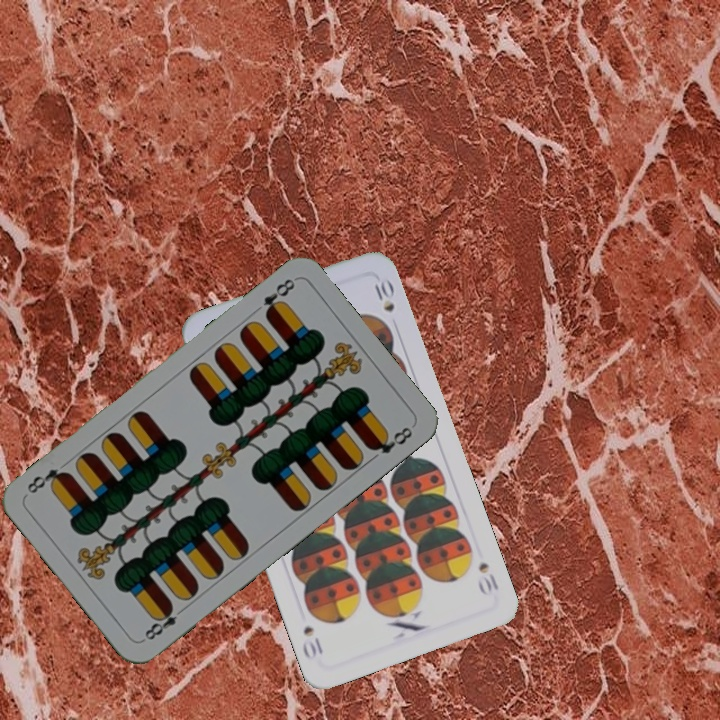E8: (138, 600, 189, 644), (259, 274, 298, 321)
S10: (474, 558, 501, 598)
